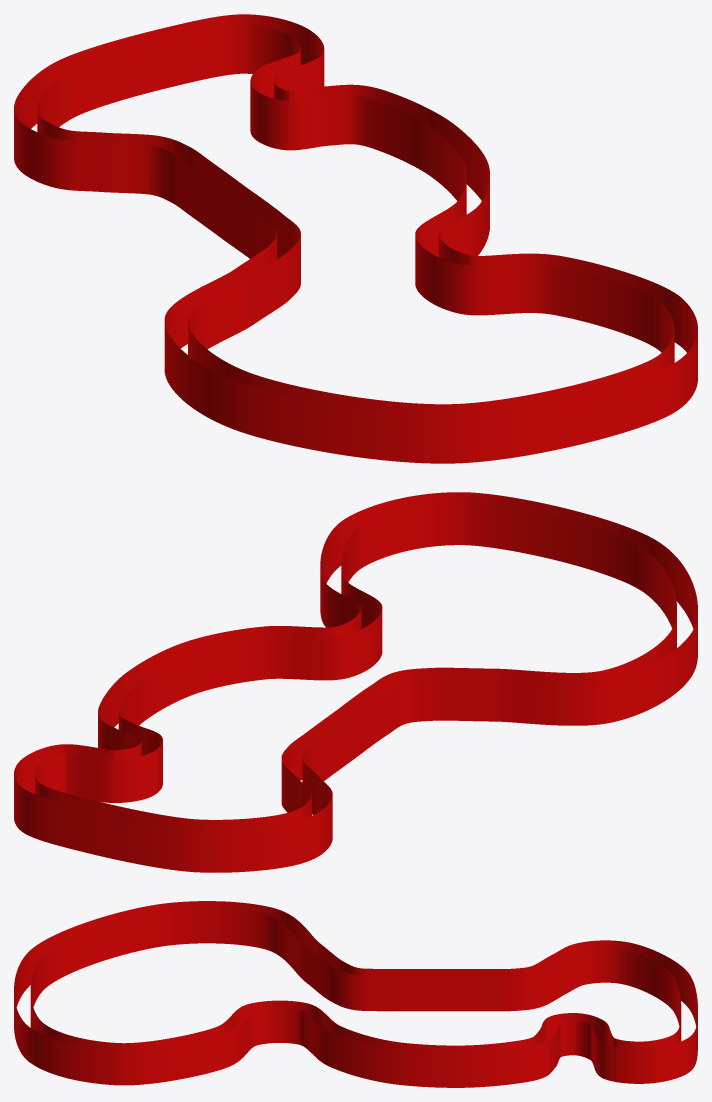
The model's file is leitplanken_track_01_colmesh.fbx.
3 renders of one model, top to bottom at view 1: azimuth 30°, elevation 25°; view 2: azimuth 150°, elevation 25°; view 3: azimuth 270°, elevation 25°, orthographic. The views are drawn at different scales.
Visible parts, largest first — view 1: Mesh; view 2: Mesh; view 3: Mesh.
Boxes of the visible parts, x1,y1,x2,y2 form: Mesh: (14, 14, 697, 463); Mesh: (14, 492, 697, 872); Mesh: (14, 901, 697, 1087).
Bounding box in the file's own units: 68306 × 7408 × 130248.
